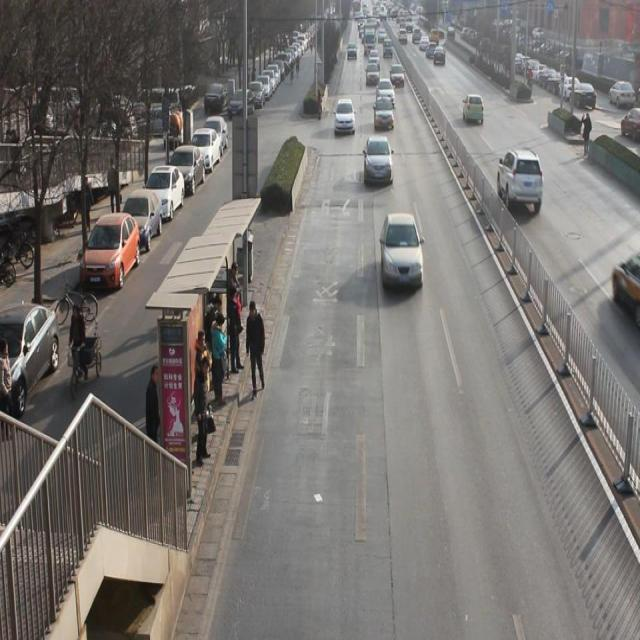car: (377, 212, 427, 294), (496, 147, 546, 216), (612, 252, 640, 319), (362, 138, 397, 188), (333, 99, 358, 138), (462, 93, 486, 129), (373, 98, 396, 130), (376, 80, 397, 106)
